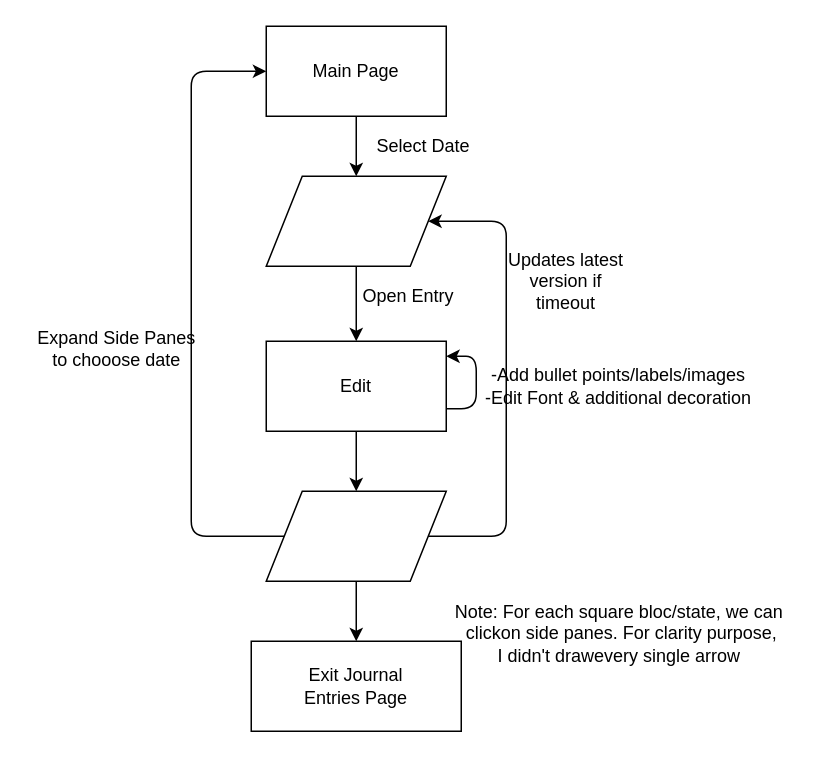
Some shapes in this 816 by 758 pixel diagram are drawn without their labels. Here are the shapes that lost their labels. From the top down, the centre of each, then its label:
At [355,220]: "Load Entry".
At [355,535]: "Store Changes To Backend".
